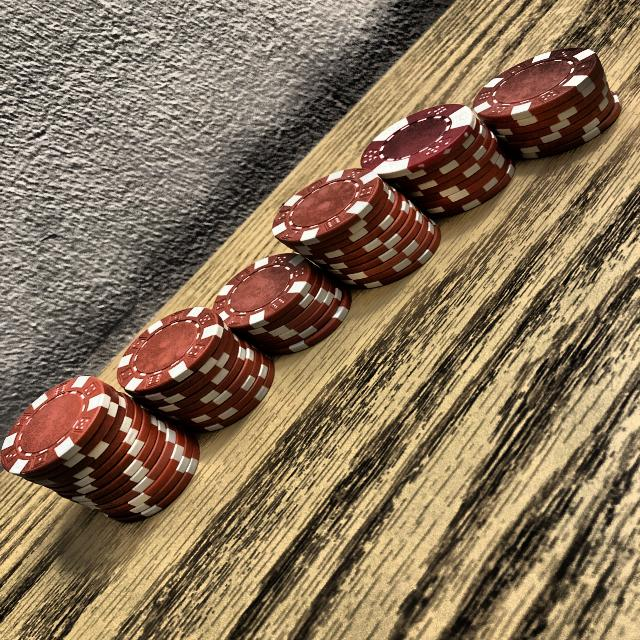Chip: (0, 368, 197, 530), (459, 39, 628, 185), (273, 160, 447, 296), (114, 298, 279, 439), (354, 99, 527, 223), (206, 247, 370, 364)
